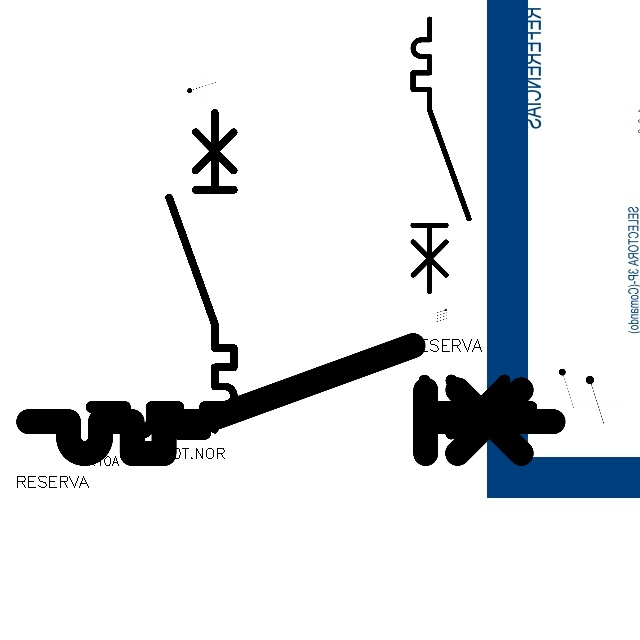interruptor_termomagnetico: (15, 332, 566, 467), (80, 332, 542, 445), (161, 104, 242, 437), (406, 12, 476, 299)
